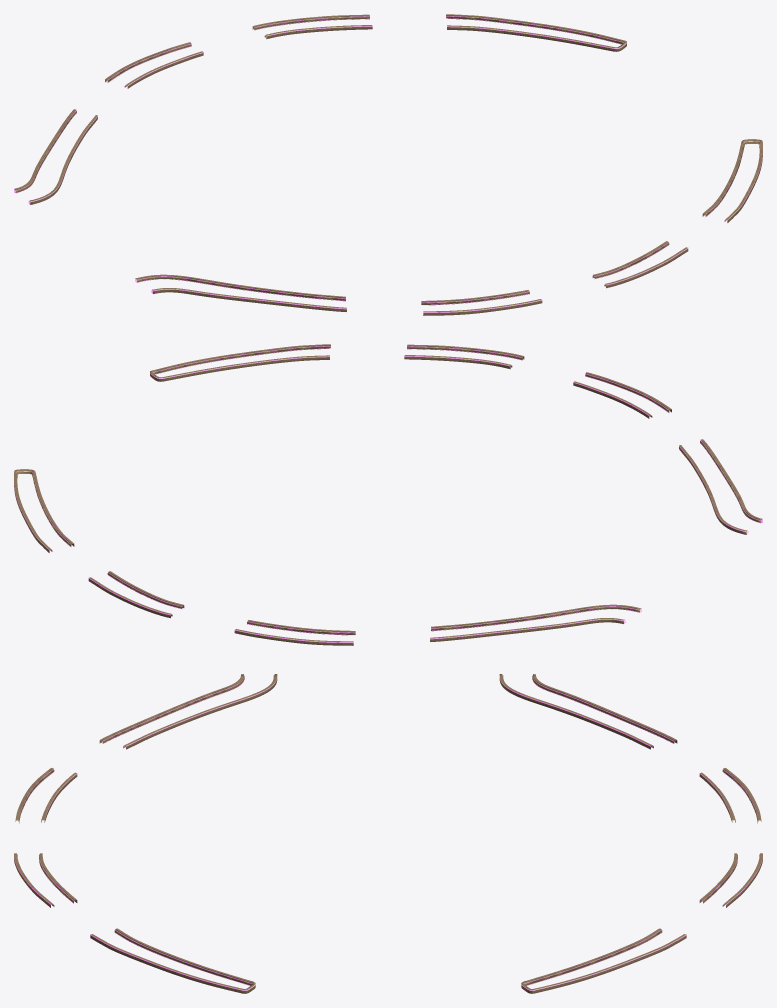
Rendered from Side road.fbx.
The picture shows the model from 3 angles, top to bottom: view 1: azimuth 30°, elevation 25°; view 2: azimuth 150°, elevation 25°; view 3: azimuth 270°, elevation 25°; orthographic projection. The views are drawn at different scales.
Visible parts, largest first — view 1: SM_SmallArea_.002; view 2: SM_SmallArea_.002; view 3: SM_SmallArea_.002.
Boxes of the visible parts, x1,y1,x2,y2 form: SM_SmallArea_.002: (14, 14, 762, 315); SM_SmallArea_.002: (14, 344, 762, 645); SM_SmallArea_.002: (14, 674, 762, 993).
Size of the model in its own units: 6170 by 33.83 by 6177.
2 materials, 1 textured.
